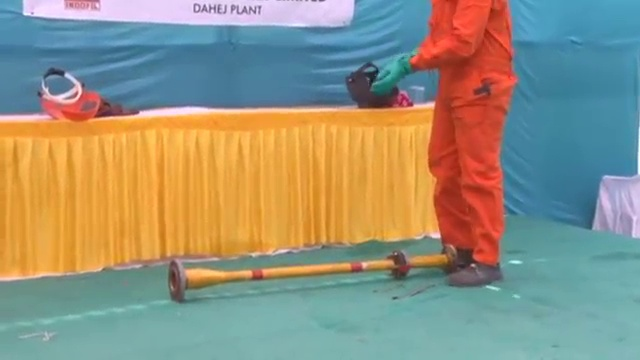person: (411, 1, 510, 293)
